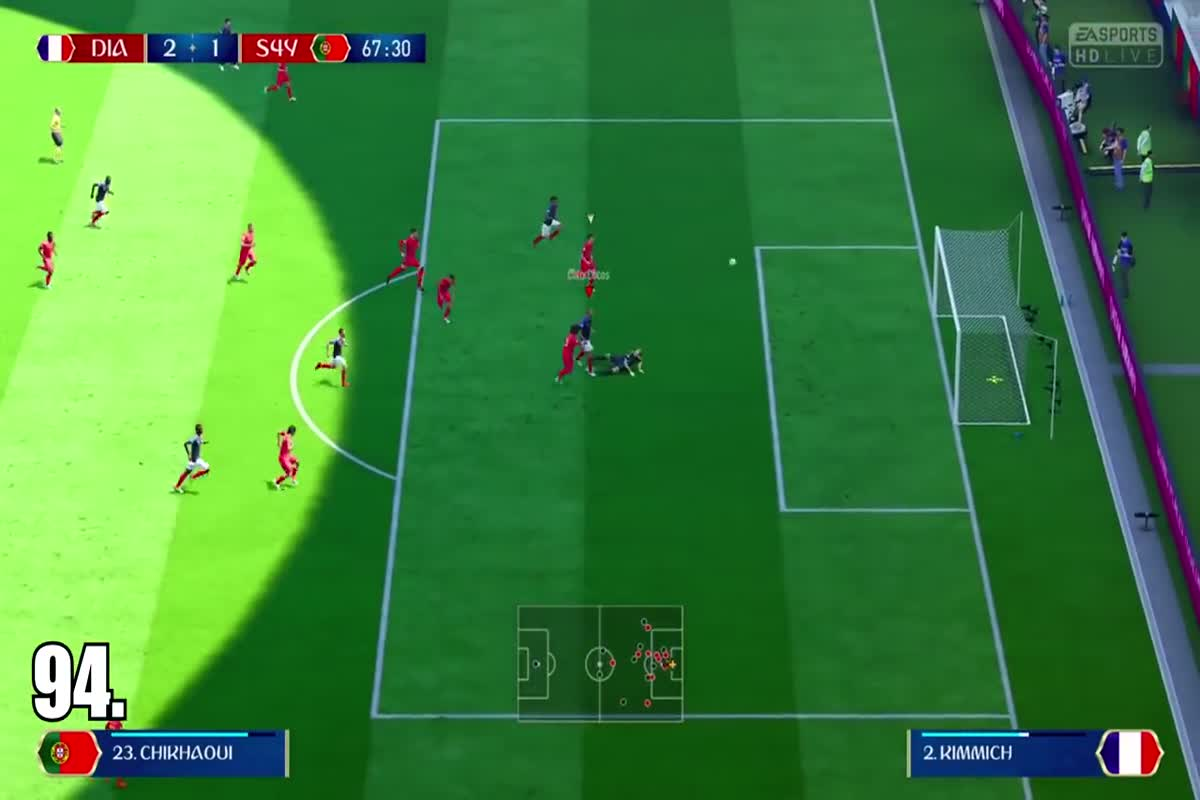ball: (716, 250, 745, 275)
